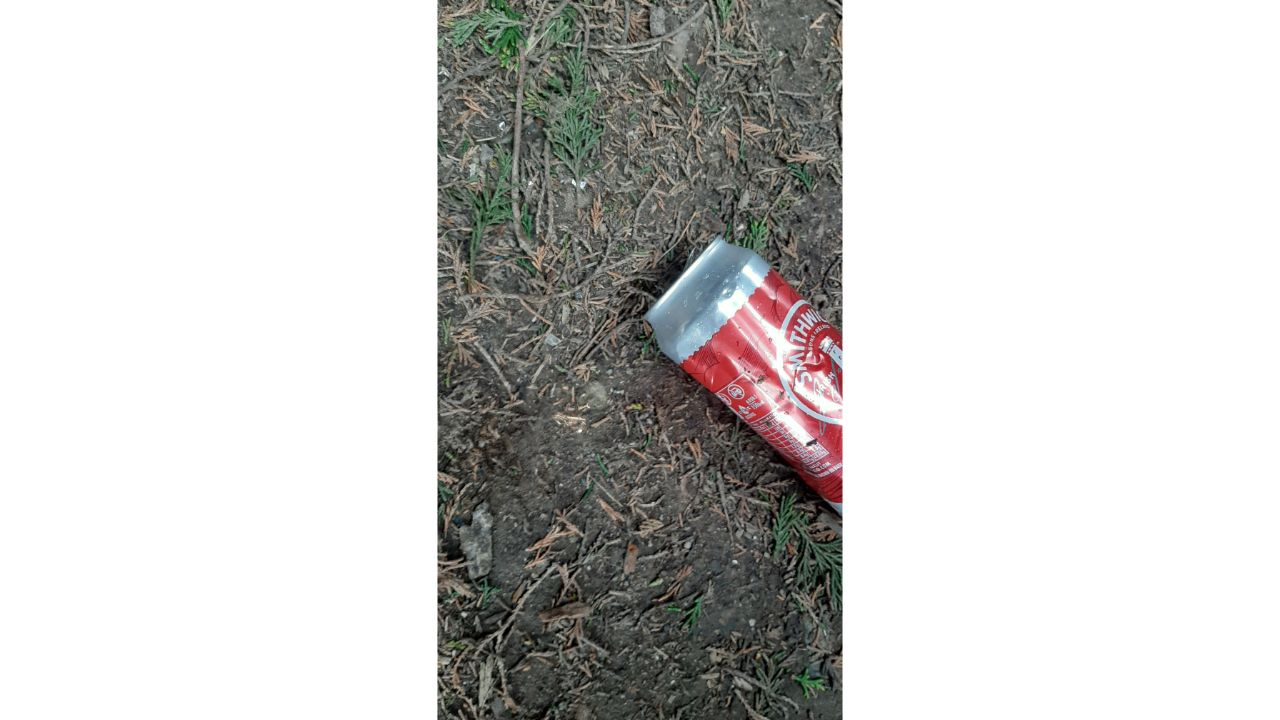Can: (644, 234, 847, 514)
